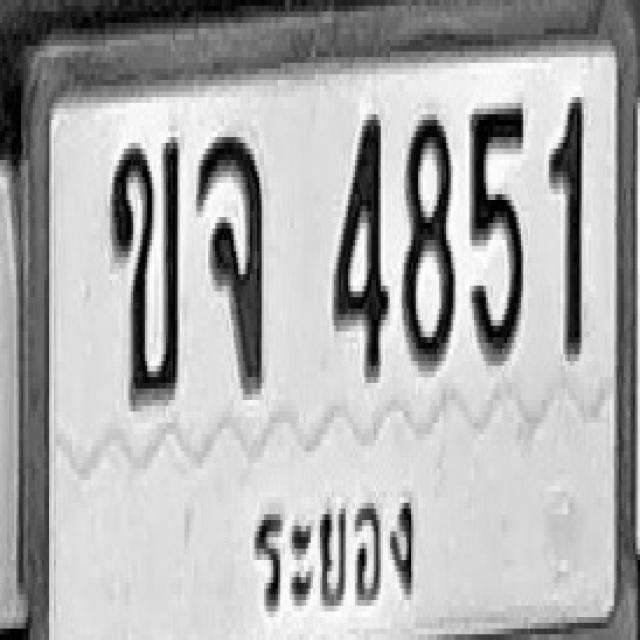1: (548, 94, 583, 357)
11KhorKhai: (110, 137, 180, 406)
17ChorChan: (197, 132, 263, 388)
4: (332, 111, 388, 380)
5: (470, 100, 523, 363)
8: (402, 112, 453, 368)
Rayong: (244, 479, 422, 617)
